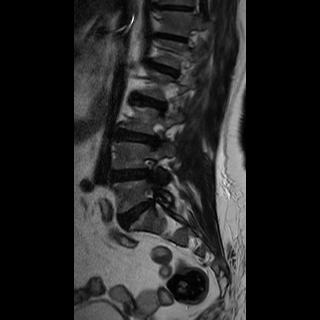RFS3: (135, 152, 159, 183)
